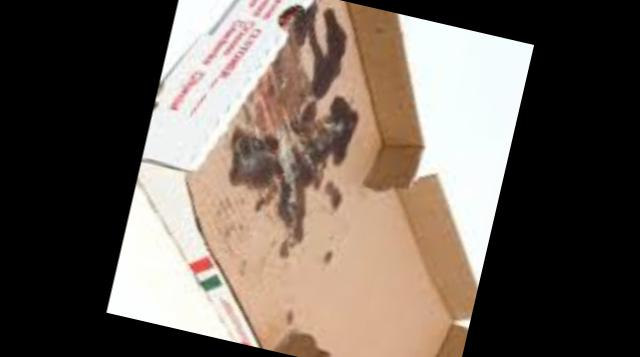cardboard paper: (141, 0, 480, 357)
